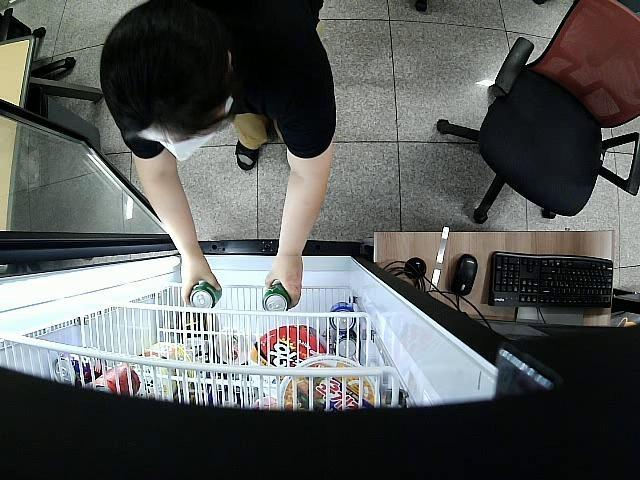12_chilsungCider: (189, 282, 221, 306), (263, 284, 292, 310)
